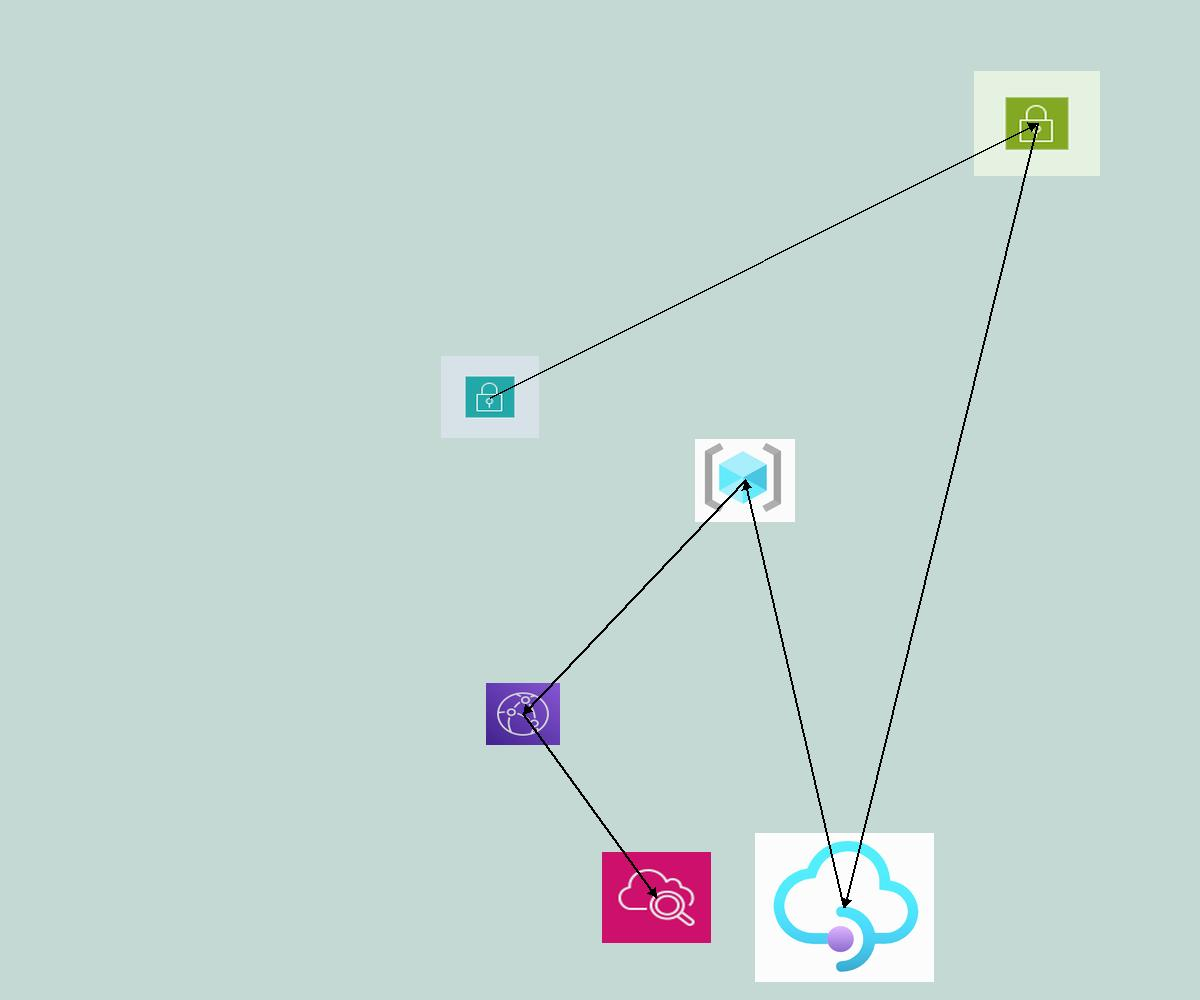AWS-CloudFront: (486, 683, 560, 745)
AWS-CloudWatch: (602, 852, 711, 943)
AWS-Private-subnet: (441, 356, 539, 438)
AWS-Public-subnet: (974, 71, 1100, 176)
Azure_api_gateway: (755, 833, 934, 982)
Azure_resource_group: (695, 439, 795, 522)
